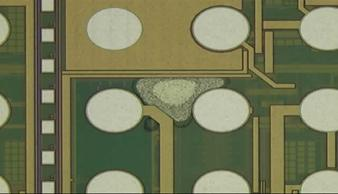BLOCK ETCH: (132, 77, 232, 133)
